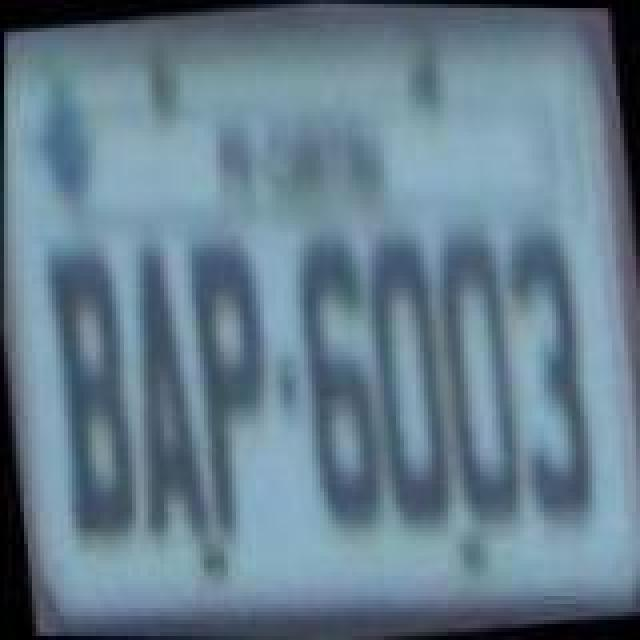3: (492, 220, 600, 532)
6: (284, 226, 392, 530)
A: (108, 246, 212, 550)
B: (32, 238, 144, 546)
O: (356, 230, 464, 530), (426, 218, 530, 526)
P: (178, 234, 286, 542)
